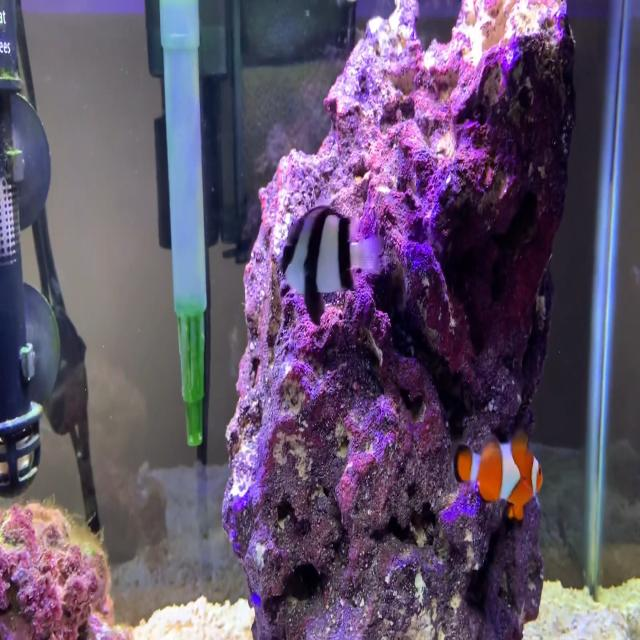ThreeStripedDamselfish: (282, 207, 384, 325)
